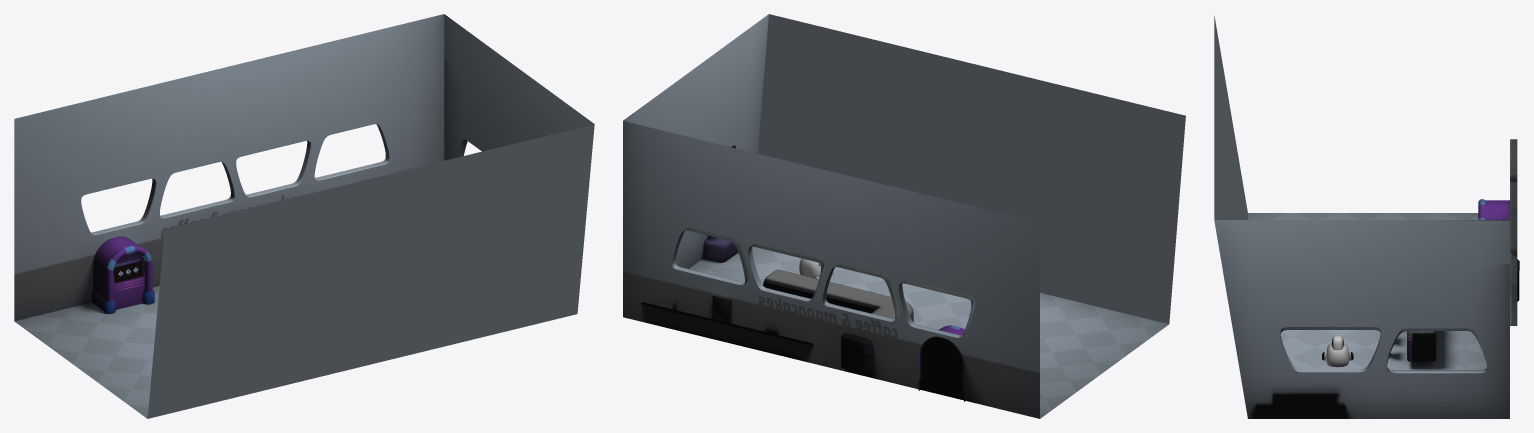
Rendered from cafeteria17.glb.
The picture shows the model from 3 angles, left to right: view 1: azimuth 30°, elevation 25°; view 2: azimuth 150°, elevation 25°; view 3: azimuth 270°, elevation 25°; orthographic projection. The views are drawn at different scales.
Parts seen in each view (by area): view 1: pared.down, pared.up, pared.right, suelo, jukebox; view 2: pared.up, pared.down, suelo, pared.right, barra, sofa, fregadero; view 3: pared.right, suelo, pared.down, pared.up, barra, aspiradora, jukebox.
Boxes of the visible parts, bbox=[...] form: pared.down: bbox=[147, 124, 594, 418]; pared.up: bbox=[14, 14, 444, 321]; pared.right: bbox=[444, 14, 594, 160]; suelo: bbox=[14, 286, 159, 418]; jukebox: bbox=[92, 236, 154, 313]; pared.up: bbox=[623, 121, 1039, 418]; pared.down: bbox=[758, 14, 1185, 323]; suelo: bbox=[689, 246, 1168, 418]; pared.right: bbox=[623, 14, 768, 268]; barra: bbox=[763, 269, 913, 373]; sofa: bbox=[703, 235, 737, 260]; fregadero: bbox=[641, 301, 813, 345]; pared.right: bbox=[1214, 220, 1509, 418]; suelo: bbox=[1248, 213, 1486, 370]; pared.down: bbox=[1214, 15, 1247, 219]; pared.up: bbox=[1510, 139, 1517, 325]; barra: bbox=[1407, 259, 1519, 361]; aspiradora: bbox=[1322, 335, 1353, 367]; jukebox: bbox=[1478, 199, 1509, 219].
Size of the model in its own units: 25.29 by 11.27 by 15.61.
Materials: 12 (12 with a texture image).
